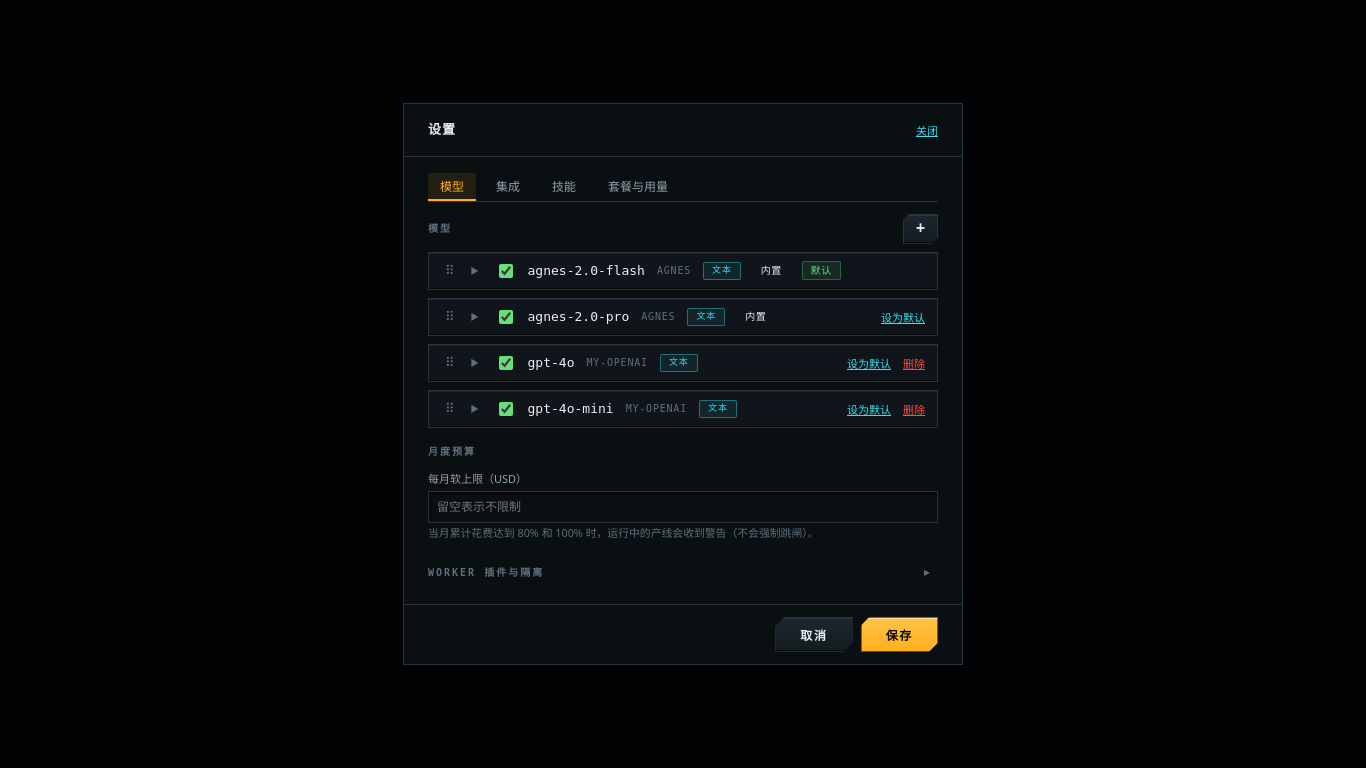
Settings › 添加模型表单 › 点击 + 按钮显示添加表单
The width and height of the screenshot is (1366, 768).
Click the button "+" at (920, 229), box x1=903 y1=214 x2=938 y2=244
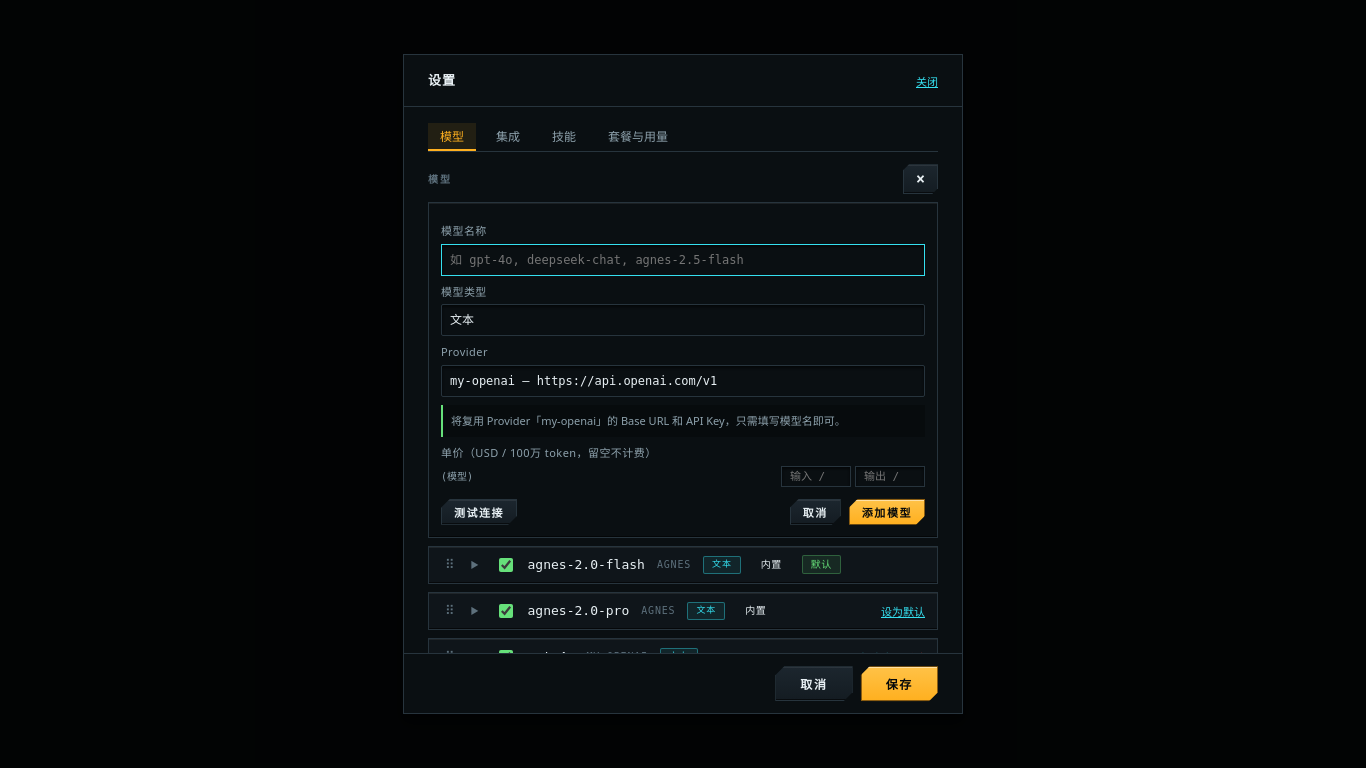
Expected: the text "模型名称" is shown, x1=441 y1=223 x2=487 y2=238
Expected: the text "模型类型" is shown, x1=441 y1=284 x2=487 y2=299
Expected: the text "Provider" is shown, x1=441 y1=344 x2=488 y2=359
